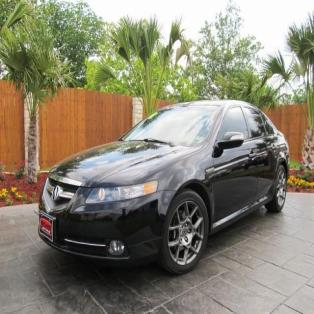Auto: (38, 99, 291, 275)
